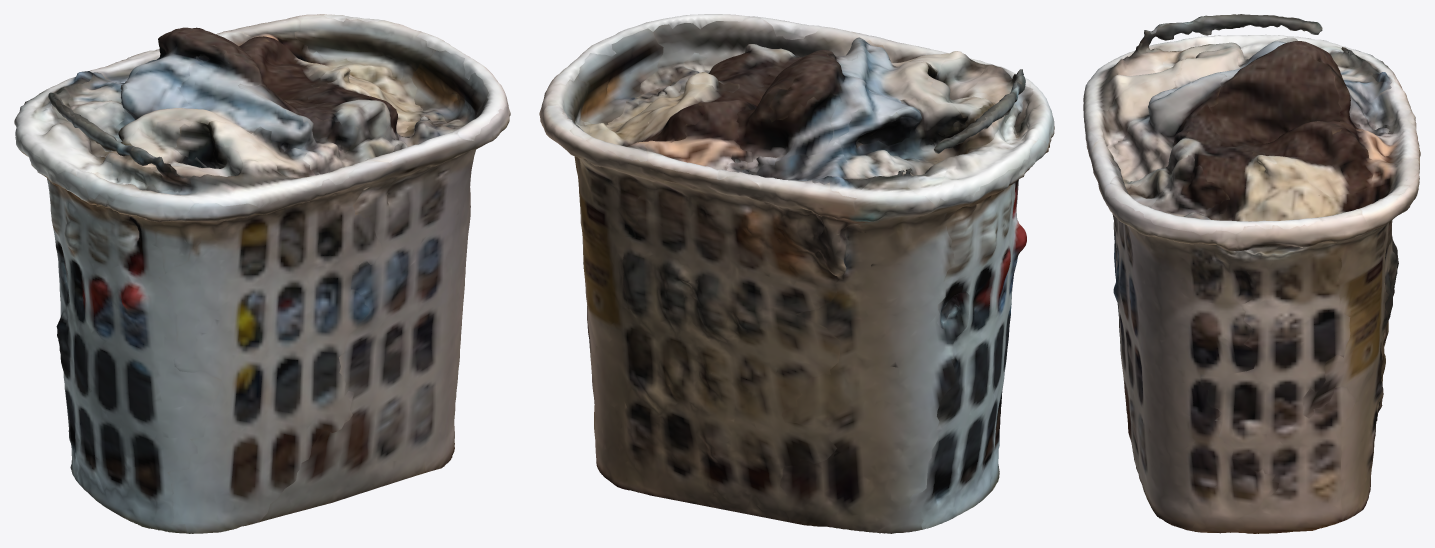
Rendered from laundry_basket.glb.
3 views of the same model, side by side, from view 1: azimuth 30°, elevation 25°; view 2: azimuth 150°, elevation 25°; view 3: azimuth 270°, elevation 25° (orthographic). The views are drawn at different scales.
Parts seen in each view (by area): view 1: laundry basket 1_0; view 2: laundry basket 1_0; view 3: laundry basket 1_0.
Part boxes in pixels (x1,y1,x2,y2): laundry basket 1_0: (14,14,510,533); laundry basket 1_0: (539,14,1054,533); laundry basket 1_0: (1083,14,1420,533).
Bounding box in the file's own units: 0.4715 × 0.4432 × 0.3453.
Materials: 1 (1 with a texture image).
